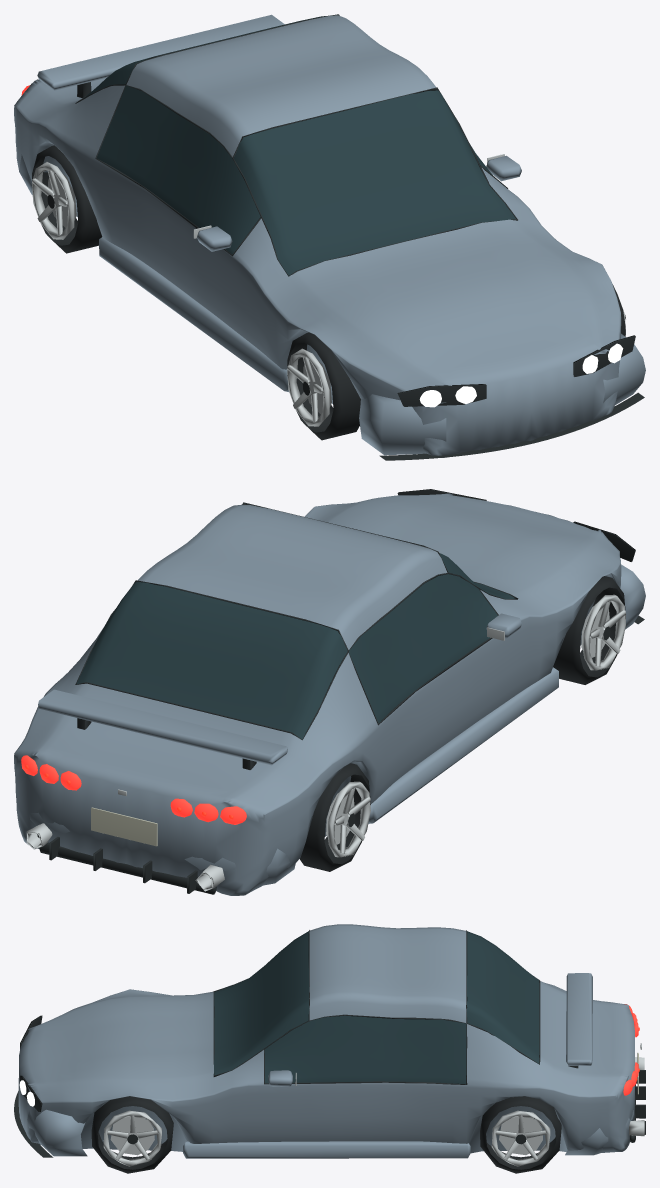
The model's file is renvyx-elynd.glb.
3 renders of one model, top to bottom at view 1: azimuth 30°, elevation 25°; view 2: azimuth 150°, elevation 25°; view 3: azimuth 270°, elevation 25°, orthographic. The views are drawn at different scales.
Visible parts, largest first — view 1: scocca, cristallo_ant, cofano, tetto, cristallo_sx, porta_sx, paraurti_ant, minigonna_sx, spoiler, ruota_ant_sx_gomma, ruota_post_sx_gomma, splitter_ant (+13 smaller); view 2: scocca, cristallo_post, tetto, portellone, cofano, cristallo_sx, porta_sx, spoiler, minigonna_sx, ruota_ant_sx_gomma, ruota_post_sx_gomma, targa (+9 smaller); view 3: scocca, tetto, cofano, porta_dx, cristallo_dx, cristallo_ant, cristallo_post, portellone, minigonna_dx, spoiler, ruota_ant_dx_gomma, ruota_post_dx_gomma (+13 smaller).
Part boxes in pixels (<box>): scocca: <box>14,85,621,457</box>; cristallo_ant: <box>233,90,515,275</box>; cofano: <box>289,219,602,376</box>; tetto: <box>126,15,436,156</box>; cristallo_sx: <box>96,85,260,254</box>; porta_sx: <box>95,159,247,340</box>; paraurti_ant: <box>359,333,645,455</box>; minigonna_sx: <box>99,237,288,391</box>; spoiler: <box>37,14,284,90</box>; ruota_ant_sx_gomma: <box>287,332,360,440</box>; ruota_post_sx_gomma: <box>32,145,102,253</box>; splitter_ant: <box>379,392,644,460</box>; scocca: <box>14,493,621,895</box>; cristallo_post: <box>76,582,347,739</box>; tetto: <box>137,504,447,649</box>; portellone: <box>29,683,302,805</box>; cofano: <box>323,495,602,599</box>; cristallo_sx: <box>349,574,497,723</box>; porta_sx: <box>371,631,518,803</box>; spoiler: <box>38,689,287,765</box>; minigonna_sx: <box>368,667,558,823</box>; ruota_ant_sx_gomma: <box>553,576,625,684</box>; ruota_post_sx_gomma: <box>300,763,370,871</box>; targa: <box>91,807,157,846</box>; scocca: <box>18,982,634,1153</box>; tetto: <box>309,924,466,1023</box>; cofano: <box>41,992,213,1088</box>; porta_dx: <box>248,1082,466,1143</box>; cristallo_dx: <box>264,1015,466,1084</box>; cristallo_ant: <box>214,931,309,1075</box>; cristallo_post: <box>466,931,539,1063</box>; portellone: <box>540,981,634,1081</box>; minigonna_dx: <box>183,1141,470,1158</box>; spoiler: <box>566,973,592,1065</box>; ruota_ant_dx_gomma: <box>91,1096,173,1173</box>; ruota_post_dx_gomma: <box>480,1096,561,1173</box>.
Size of the model in its own units: 2.25 by 1.47 by 5.18.
